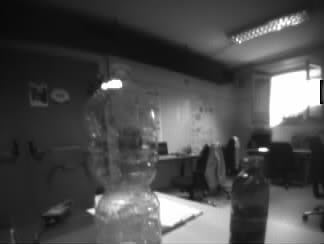Bottle: (88, 65, 162, 244), (232, 156, 268, 244)
